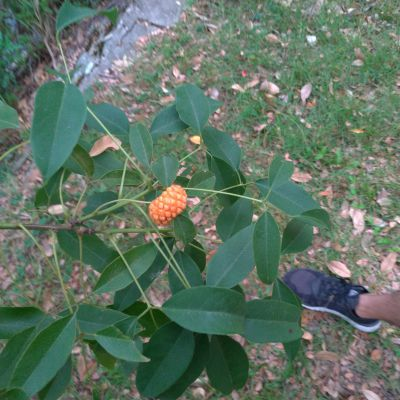eggs: (144, 182, 190, 225)
